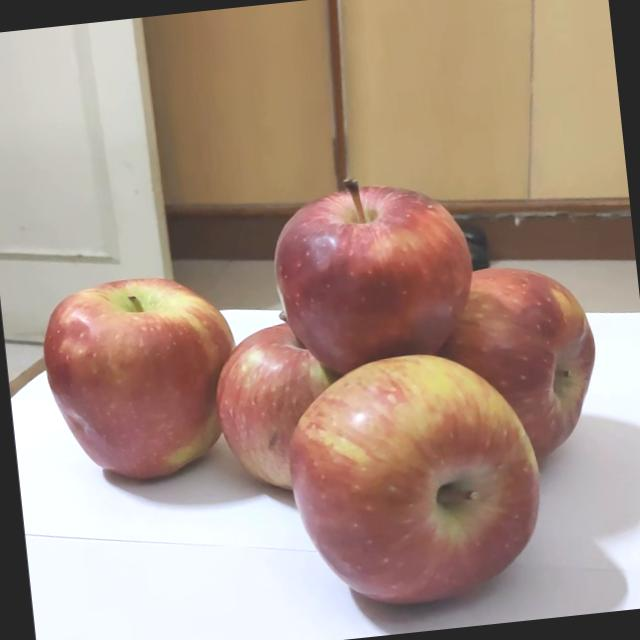apple: (261, 342, 549, 614), (18, 258, 258, 491), (253, 152, 479, 384), (389, 246, 602, 469), (197, 299, 374, 504)
